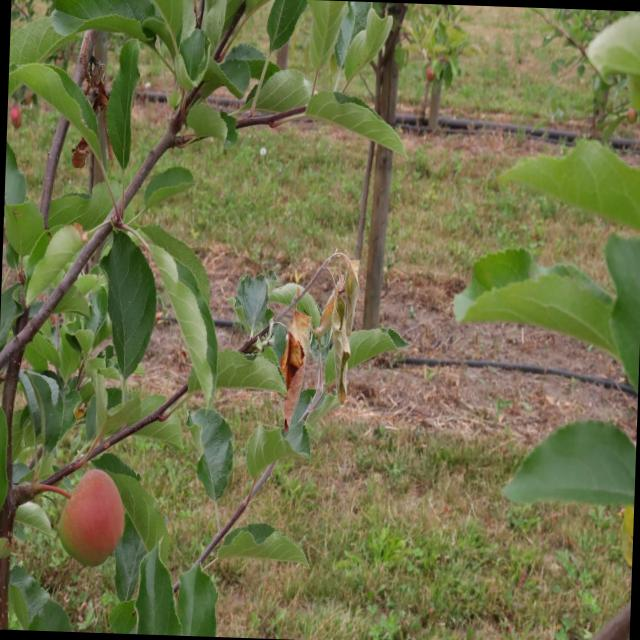-FireBlight-: (322, 249, 360, 401), (278, 306, 315, 424)
